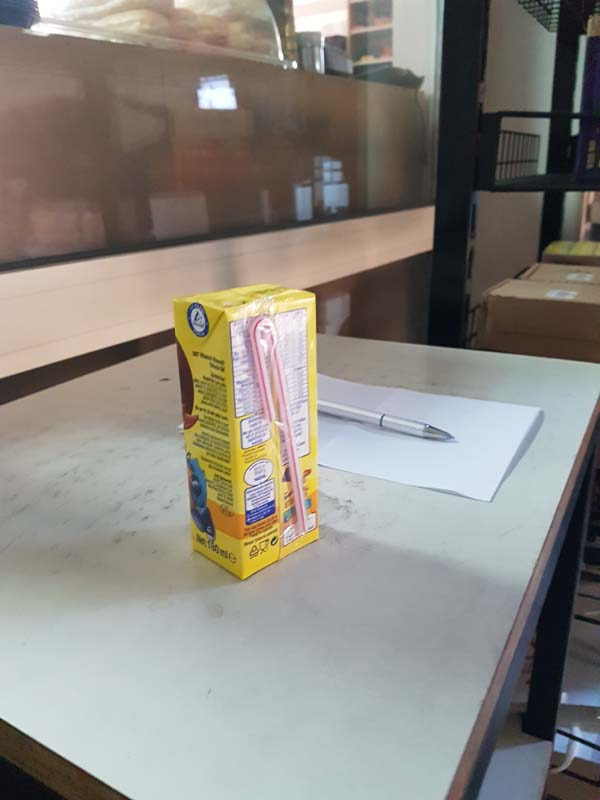nesquick200ml: (175, 277, 324, 581)
